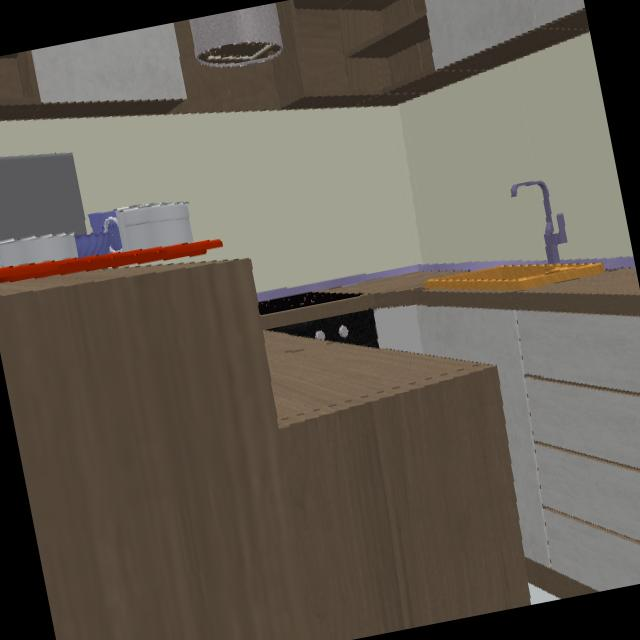countertop: (261, 273, 640, 427)
microwave: (0, 154, 88, 247)
oven: (287, 313, 384, 352)
shelf: (285, 0, 590, 105)
sink: (422, 262, 618, 292)
stove: (260, 284, 360, 321)
